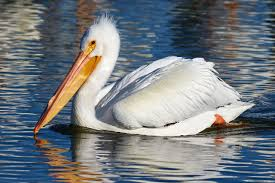pelican: (32, 15, 252, 137)
